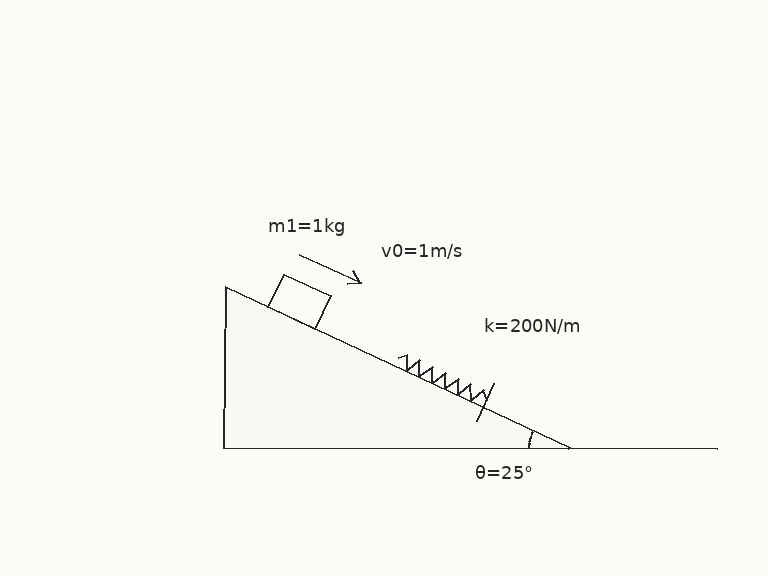block: (266, 272, 332, 331)
ramp: (223, 285, 571, 450)
spring: (395, 353, 489, 402)
